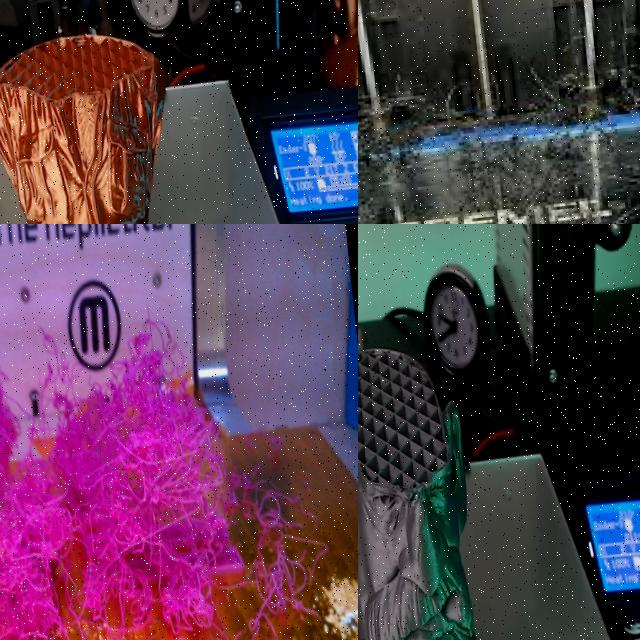spaghetti: (0, 313, 324, 640), (358, 0, 640, 224)
